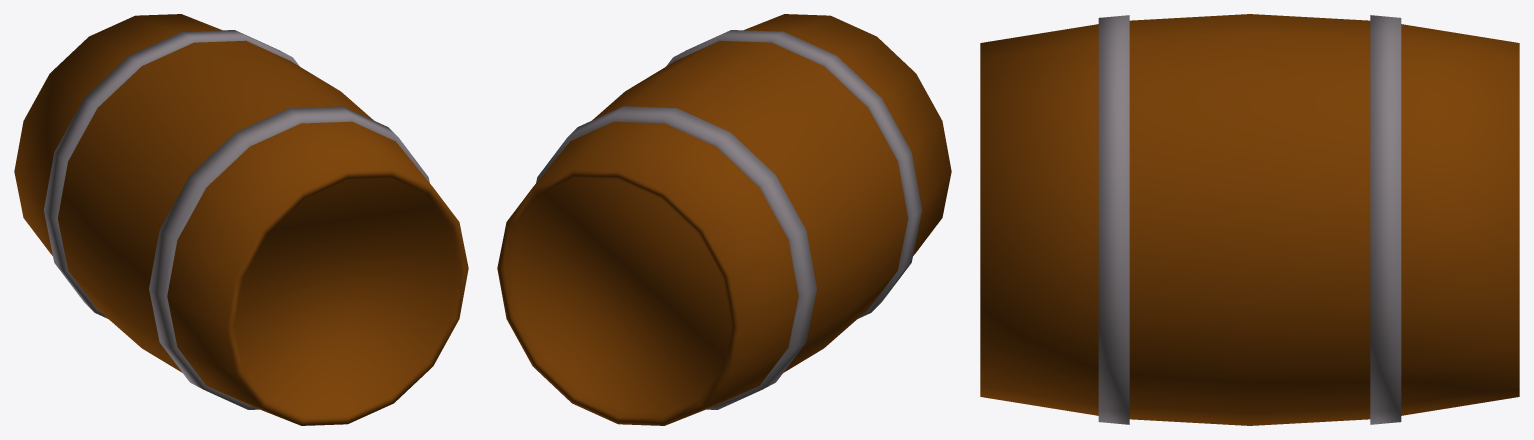
The model's file is Barrel.fbx.
3 views of the same model, side by side, from view 1: azimuth 30°, elevation 25°; view 2: azimuth 150°, elevation 25°; view 3: azimuth 270°, elevation 25° (orthographic). The views are drawn at different scales.
Visible parts, largest first — view 1: Barrel_low; view 2: Barrel_low; view 3: Barrel_low.
Boxes of the visible parts, left/top/right/bottom form: Barrel_low: left=14, top=14, right=468, bottom=425; Barrel_low: left=497, top=14, right=951, bottom=425; Barrel_low: left=980, top=14, right=1519, bottom=425.
Size of the model in its own units: 0.7649 by 0.7649 by 1.
